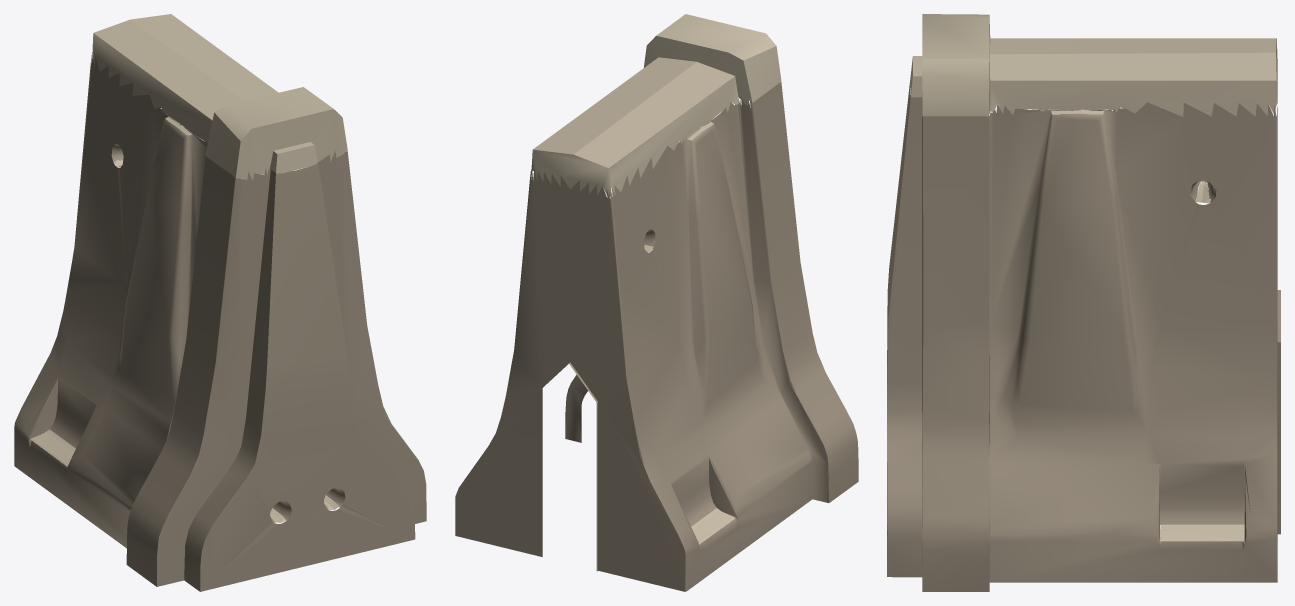
Rendered from stone-wall-n.glb.
The picture shows the model from 3 angles, left to right: view 1: azimuth 30°, elevation 25°; view 2: azimuth 150°, elevation 25°; view 3: azimuth 270°, elevation 25°; orthographic projection. The views are drawn at different scales.
Parts seen in each view (by area): view 1: body; view 2: body; view 3: body.
Part boxes in pixels (bbox=[...]): body: bbox=[14, 14, 426, 591]; body: bbox=[455, 14, 858, 591]; body: bbox=[887, 14, 1280, 591].
Size of the model in its own units: 0.8505 by 1.31 by 0.9682.
